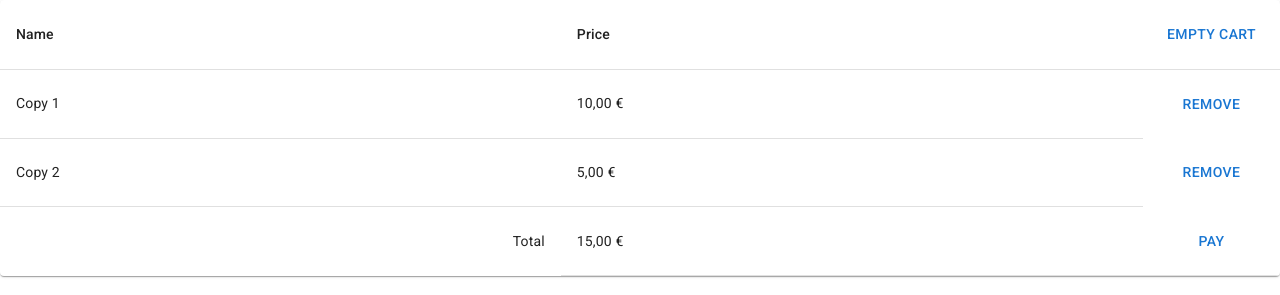
Scenario: ShoppingCartTable › removes an item and recalculates the total price
Expected: the number of rows is 4, [0,0,1279,69]; [0,69,1279,138]; [0,138,1279,206]; [0,206,1279,276]
Expected: the text "Copy 1" is shown, [0,69,561,138]
Click the button "Remove" in the row of "Copy 1".
click(1212, 104)  # box [1175,86,1248,122]
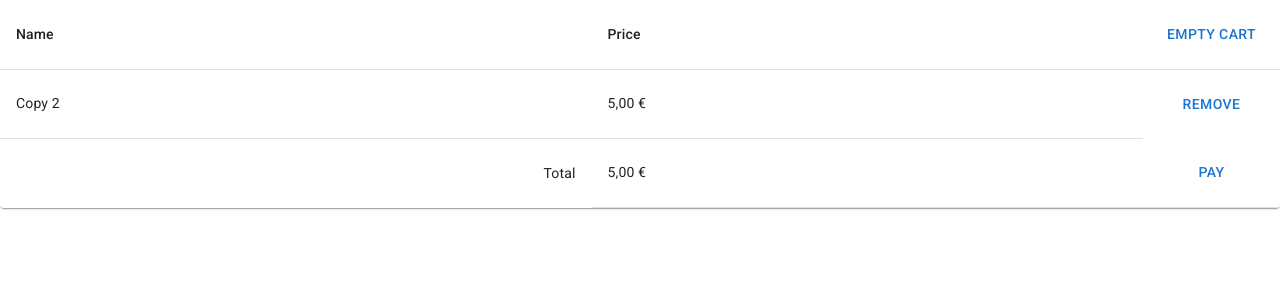
Expected: the text "Copy 2" is shown, [0,69,592,138]
Now the text "Copy 1" is gone
